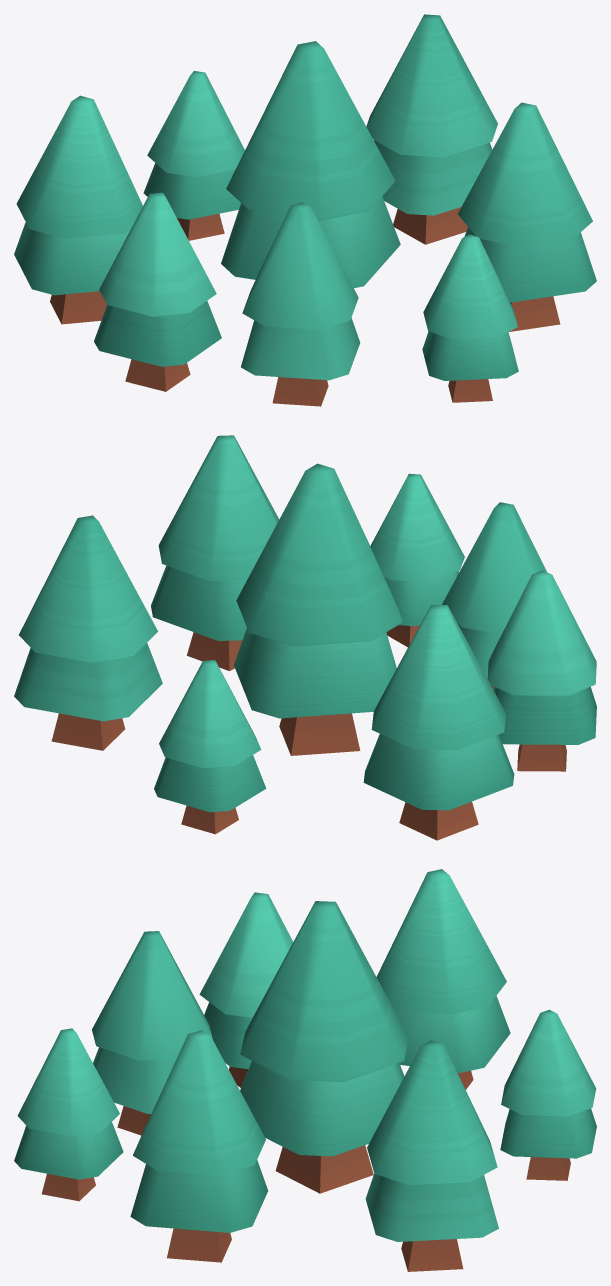
File: forest.glb
3 renders of one model, top to bottom at view 1: azimuth 30°, elevation 25°; view 2: azimuth 150°, elevation 25°; view 3: azimuth 270°, elevation 25°, orthographic. The views are drawn at different scales.
Parts seen in each view (by area): view 1: grass-forest; view 2: grass-forest; view 3: grass-forest.
Boxes of the visible parts, x1,y1,x2,y2 form: grass-forest: (14,14,596,406); grass-forest: (14,435,596,840); grass-forest: (14,869,596,1271).
Size of the model in its own units: 0.8893 by 0.475 by 0.9391.
1 material, 1 textured.
